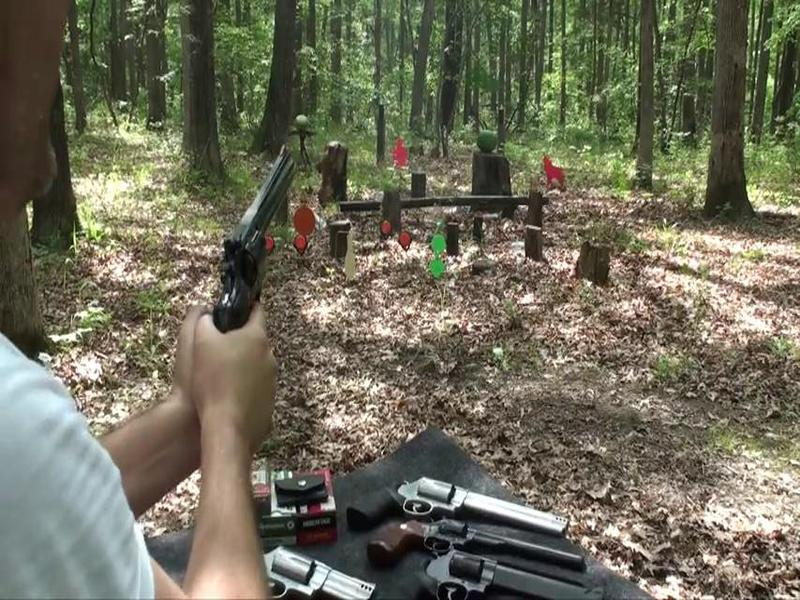Revolver: (197, 136, 311, 354)
